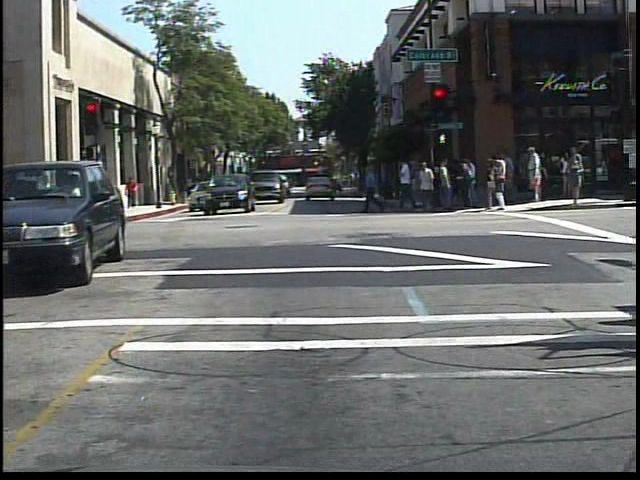person: (523, 146, 548, 206), (34, 171, 58, 232), (1, 174, 23, 228), (125, 174, 140, 202)
